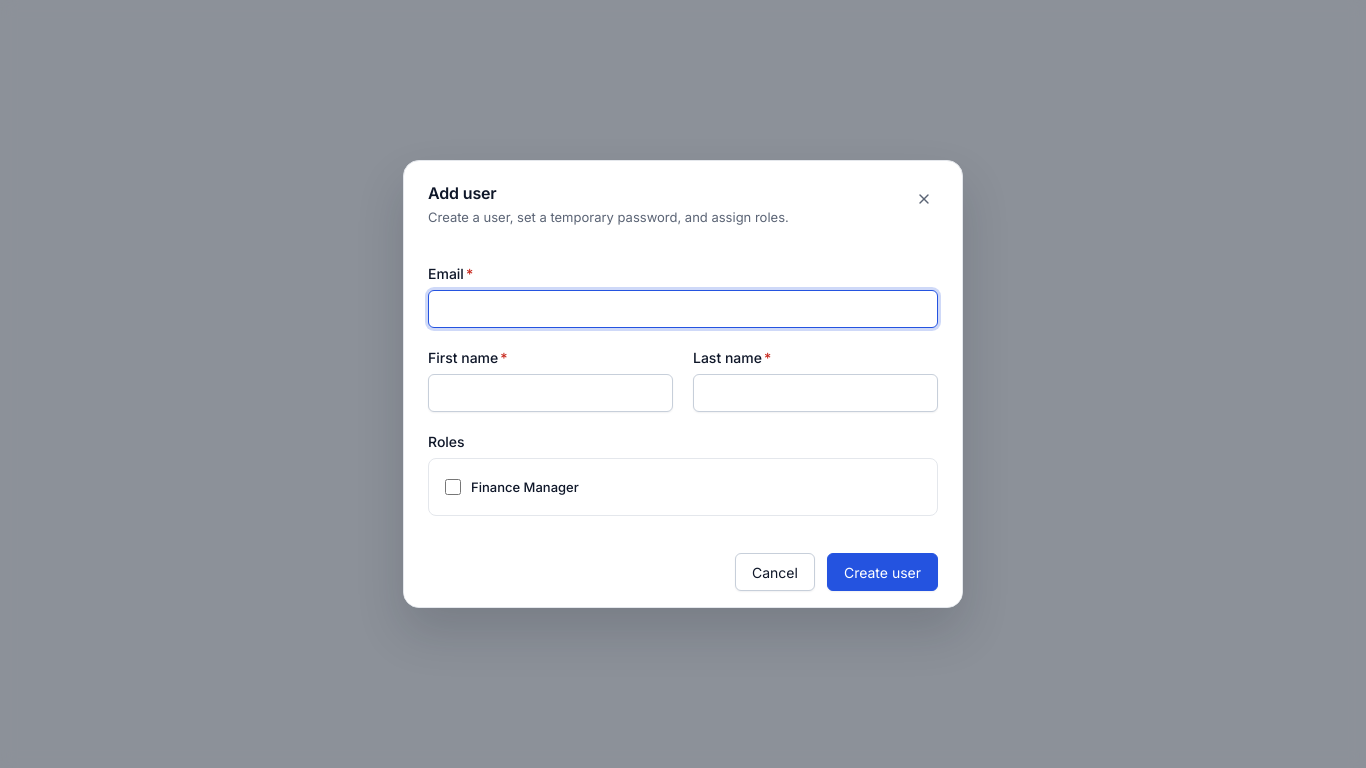
Scenario: CreateUserDialog › refuses a malformed email before any request
The image size is (1366, 768).
Type "omar-at-acco" into the field labelled "Email*". click: (683, 309)
box: 428,290 -> 938,328
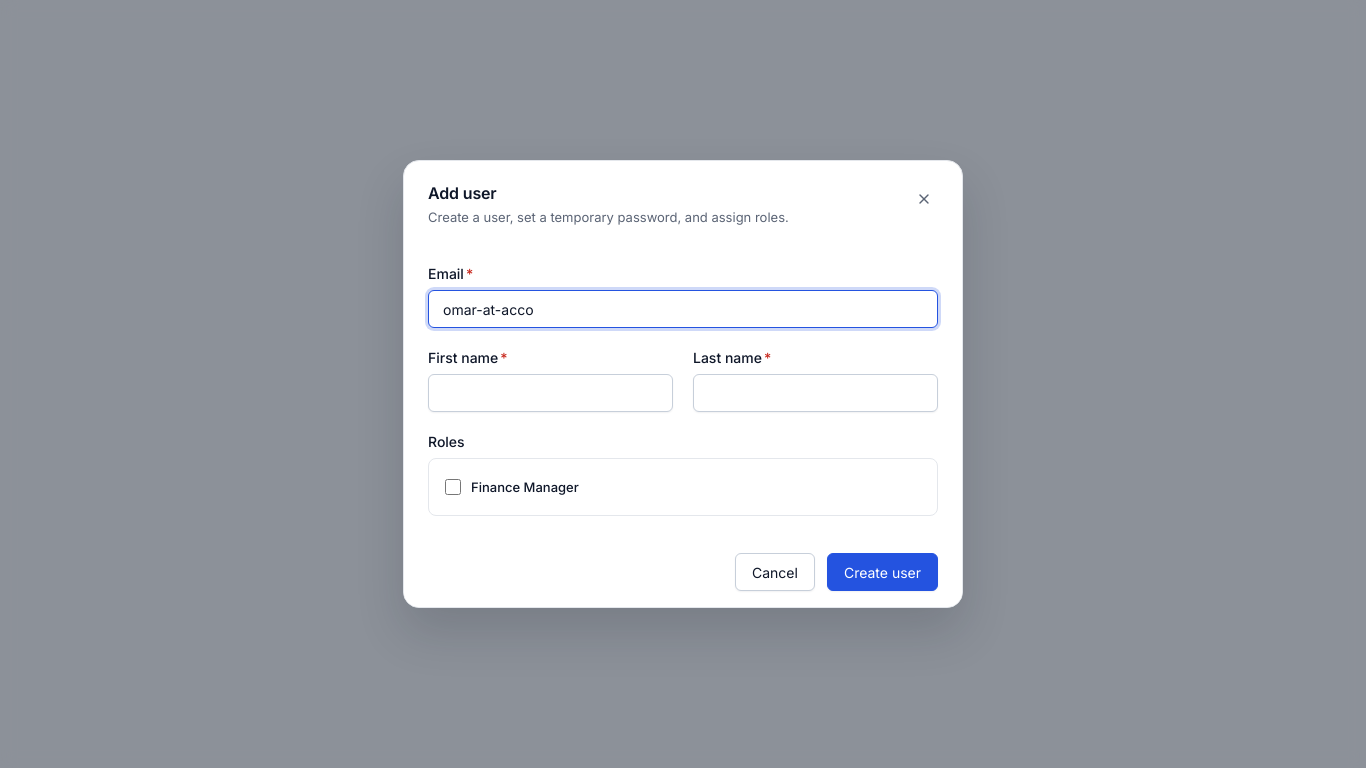
Type "Omar" into the field labelled "First name*". click: (550, 393)
box: 428,374 -> 673,412
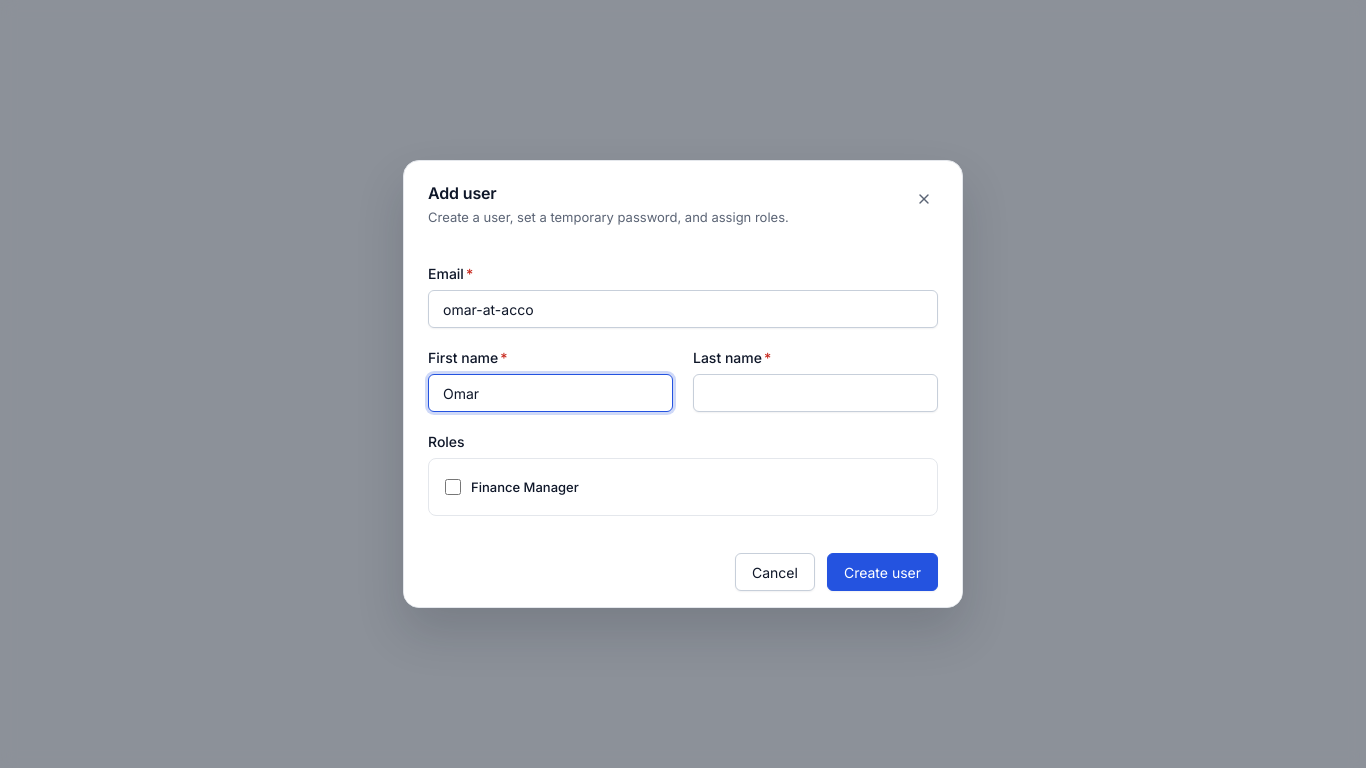
Type "Nur" into the field labelled "Last name*". click: (816, 393)
box: 693,374 -> 938,412
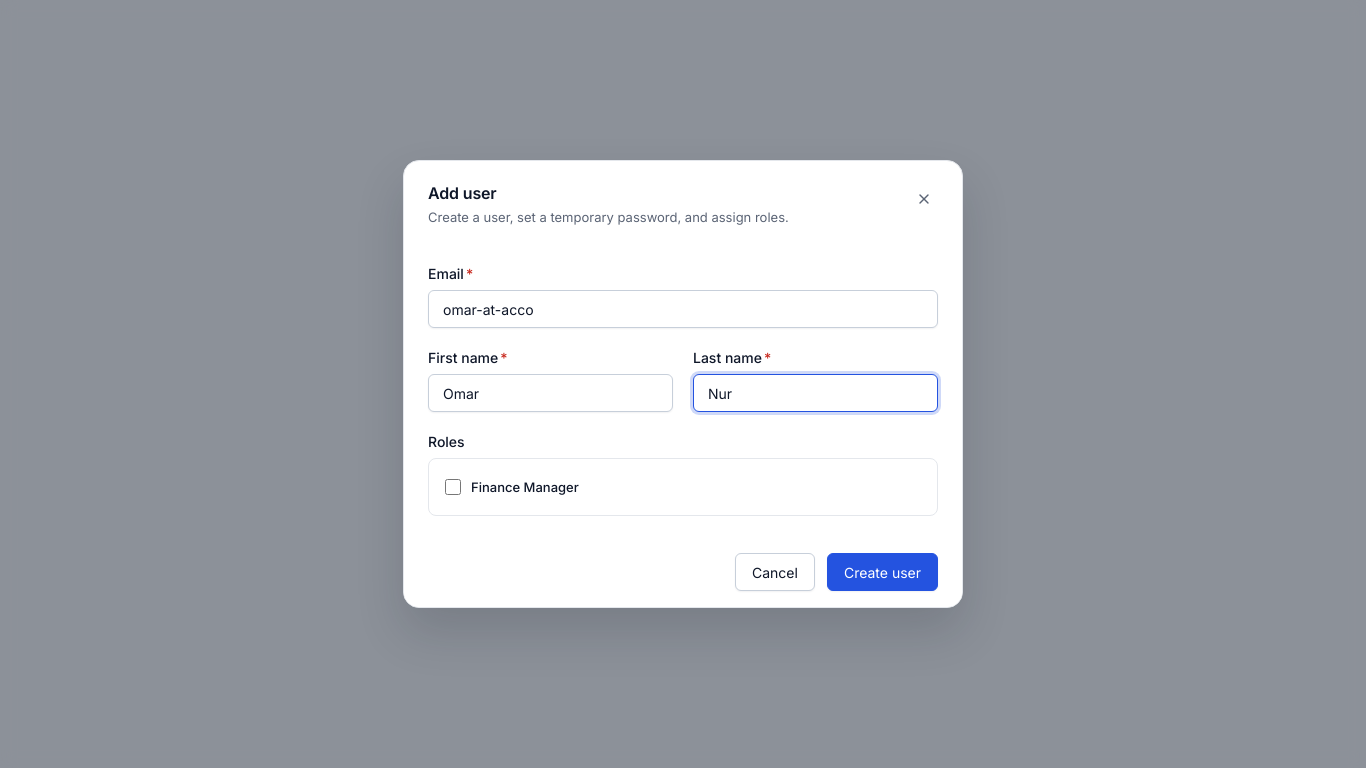
Click the button "Create user". click: (882, 572)
box: 827,553 -> 938,591
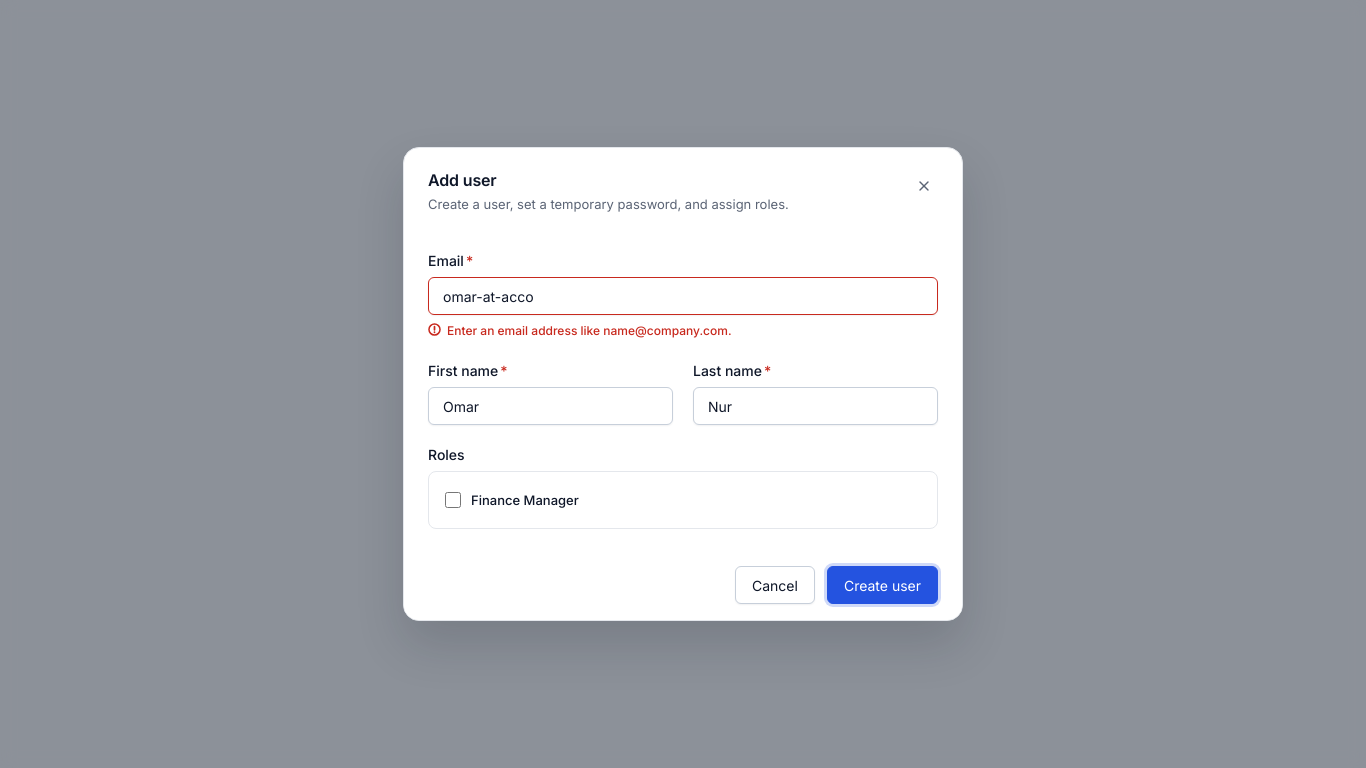
expect the text "Enter an email address like name@company.com." is shown: met, box 428,323 -> 732,338
